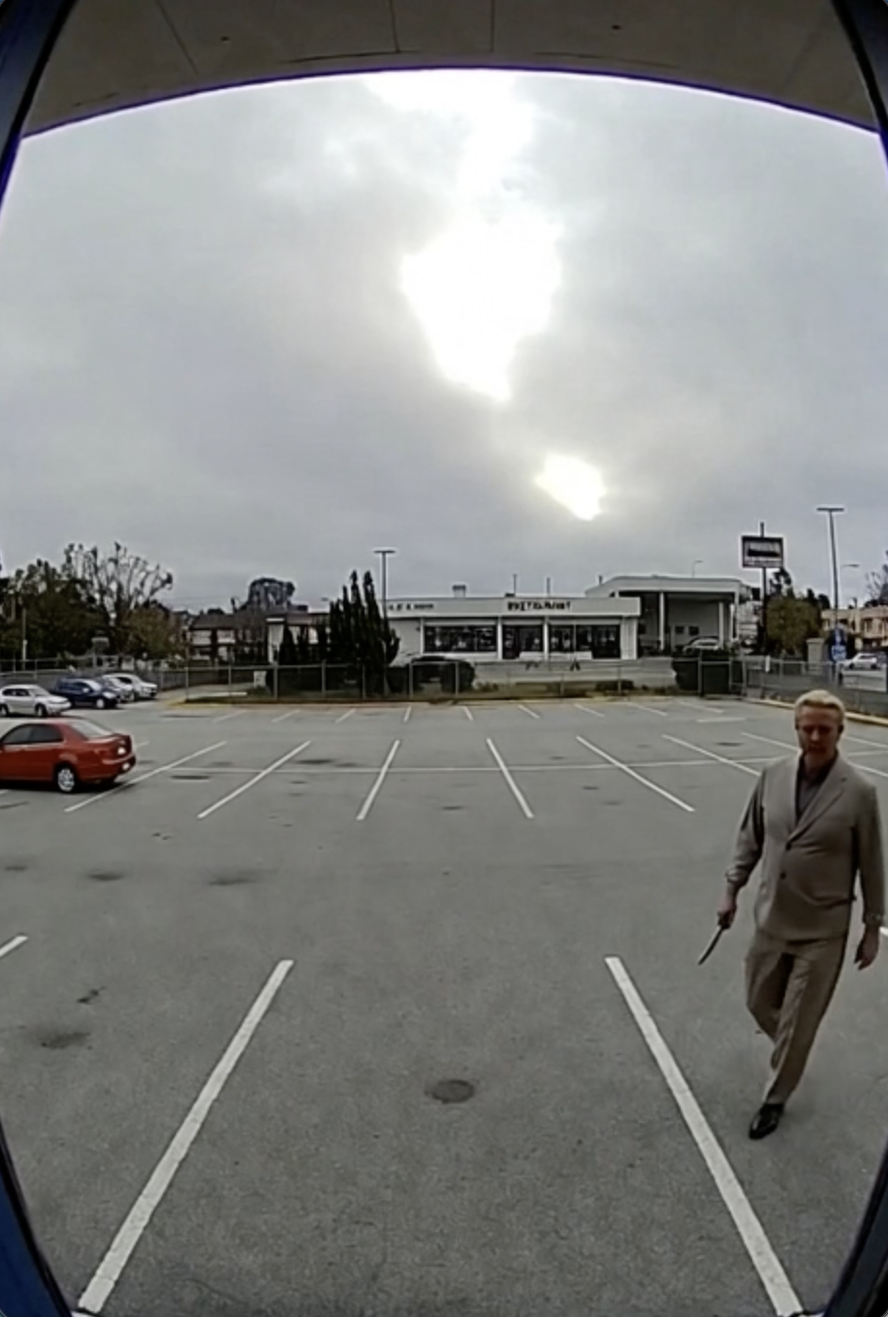Heavy Gun: (709, 676, 888, 1136)
Knife: (699, 889, 749, 969)
